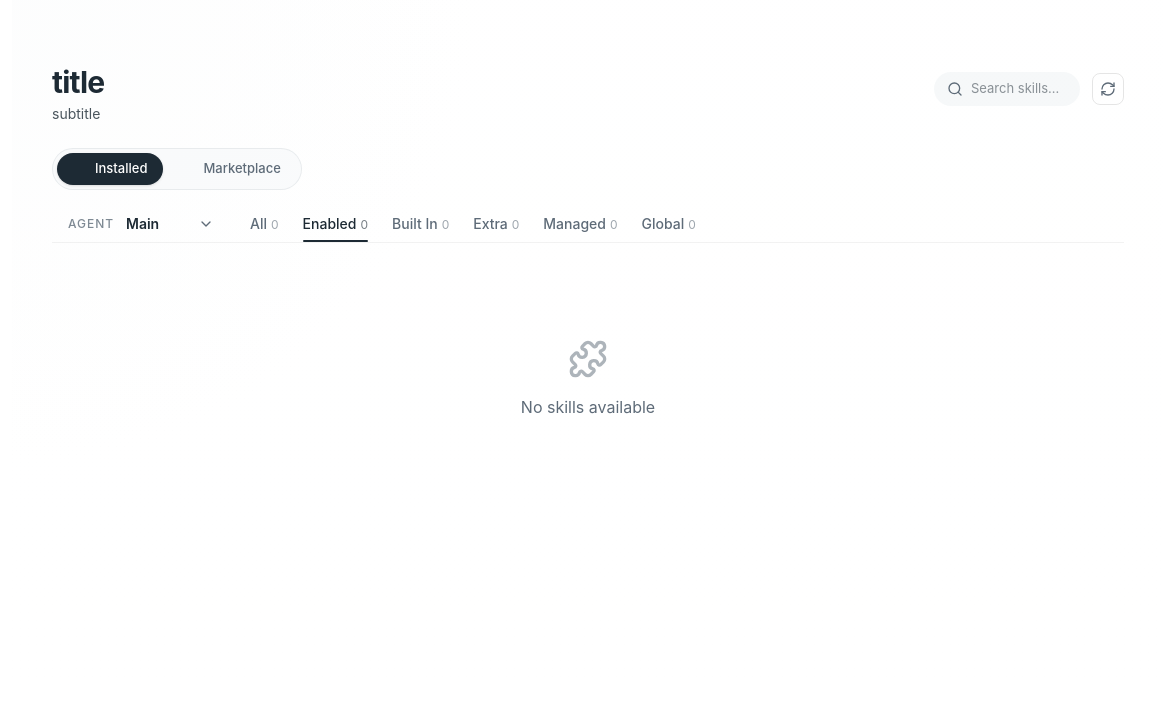
Test case: skills page manual membership editing › updates the agentId search param when switching the selected agent
Select "Writer" in the dropdown at (176, 224), box [126,206,226,242]
(page scrolled)
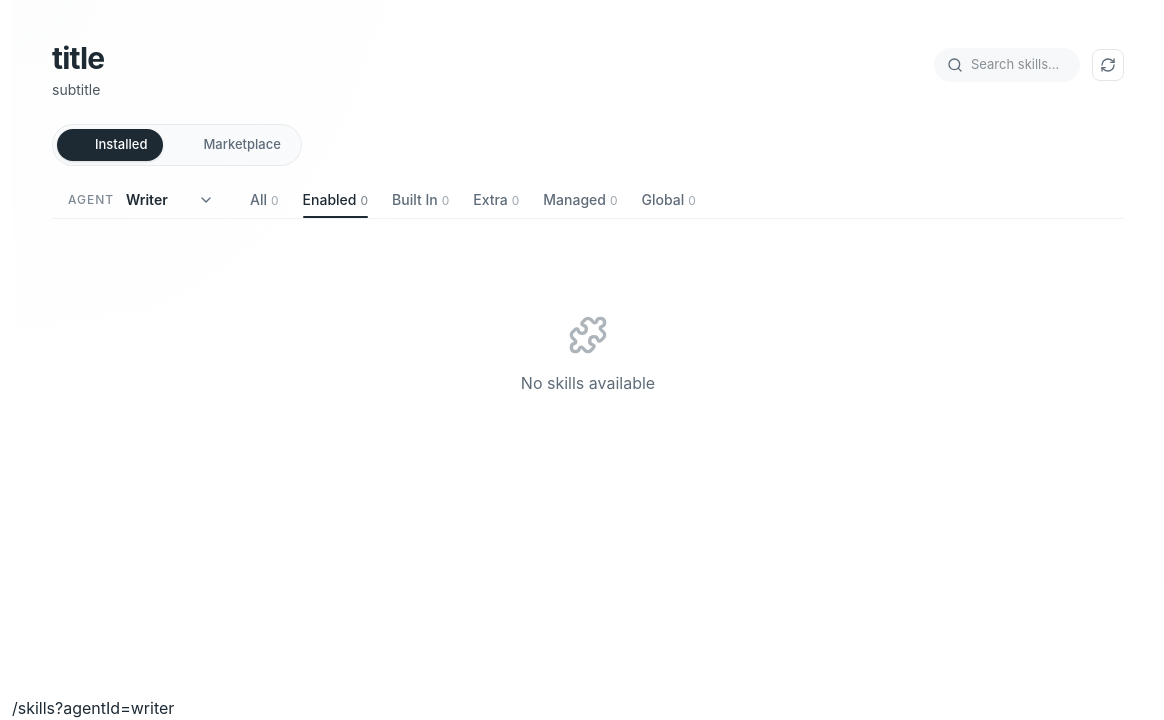
Now the text with test id "location-probe" reads "/skills?agentId=writer", box [12,698,174,718]
